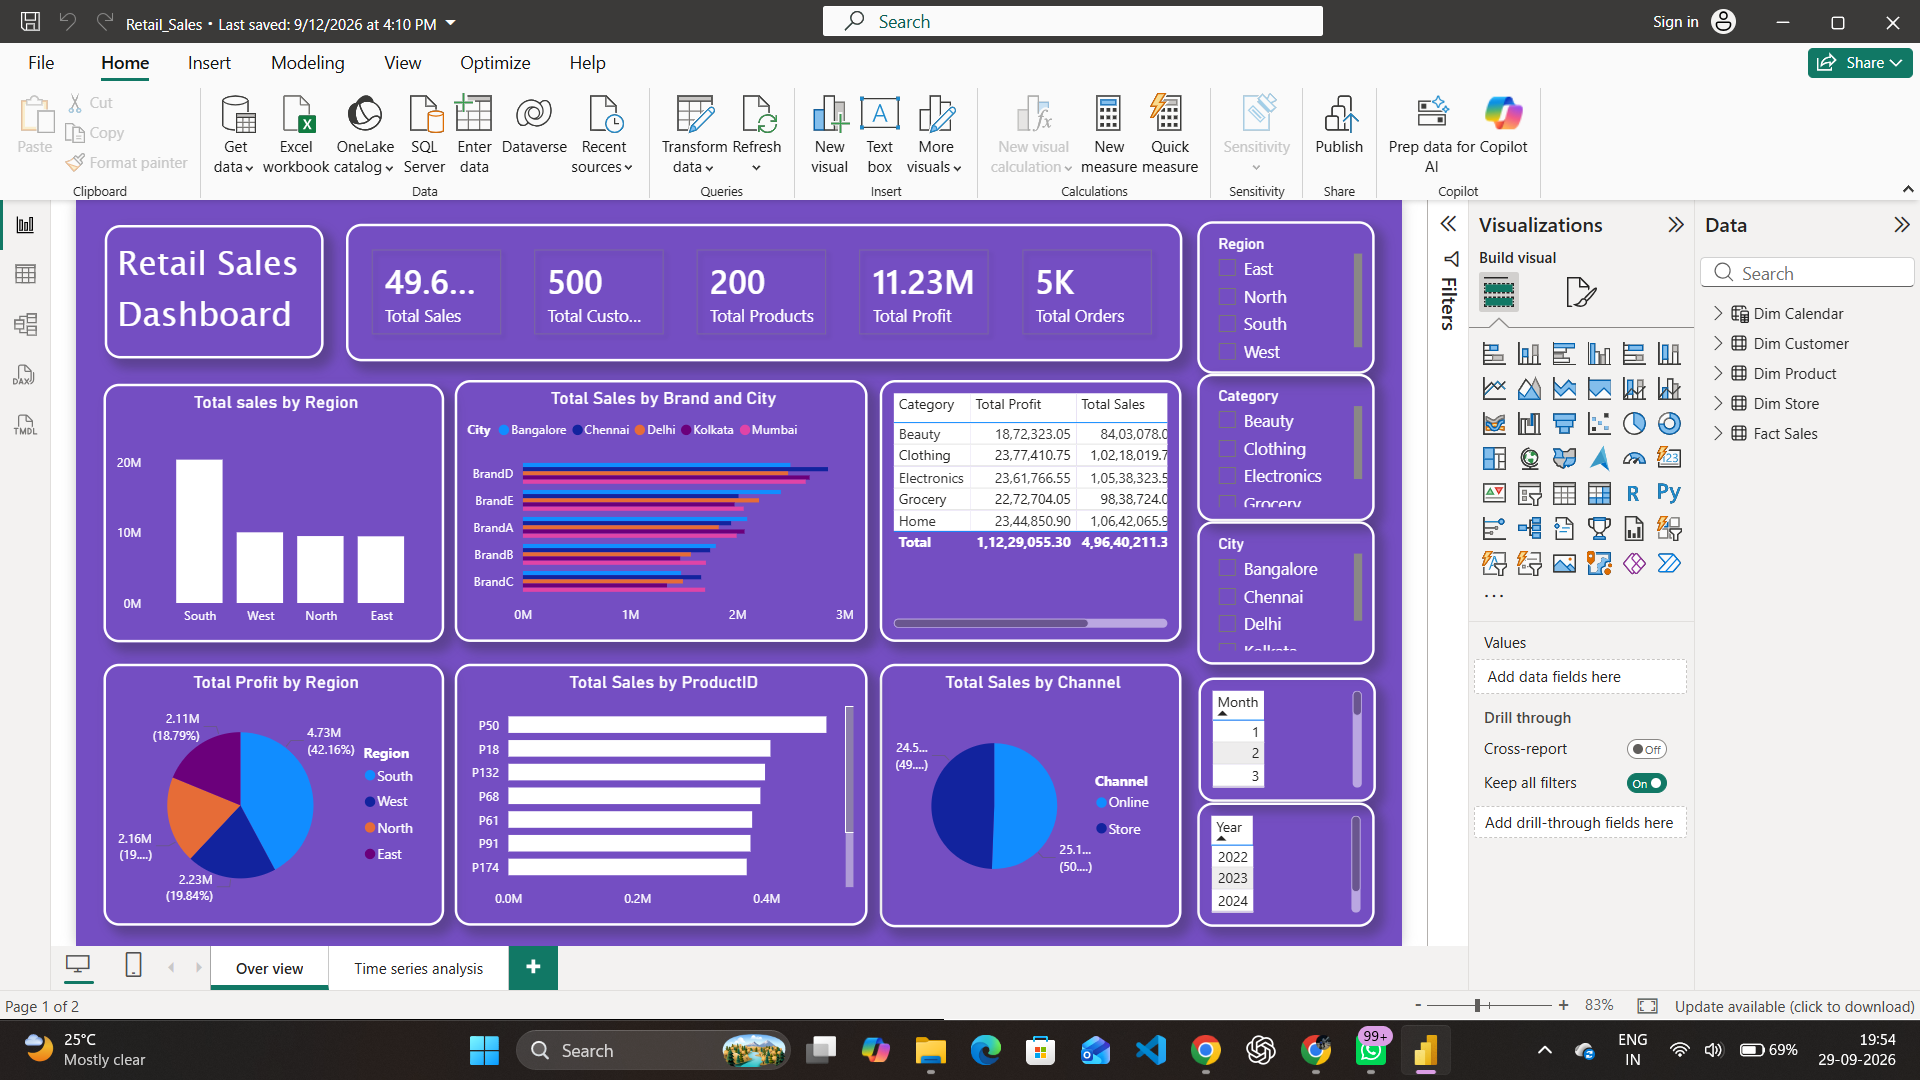

Layout of this report page (visuals, bound fields, positions):
{"tool":"powerbi","page":{"name":"Over view","canvas":[1280,720],"ordinal":0},"visuals":[{"type":"cardVisual","fields":{"Data":["Fact Sales.Total Sales","Fact Sales.Total Customers","Fact Sales.Total Products","Fact Sales.Total Profit","Fact Sales.Total Orders"]},"box":[260,22.5,807.5,132.5],"z":0},{"type":"slicer","fields":{"Values":["Dim Customer.Region"]},"box":[1082.5,20,171.2,147.5],"z":1000},{"type":"slicer","fields":{"Values":["Dim Product.Category"]},"box":[1082.5,167.5,171.2,142.5],"z":2000},{"type":"slicer","fields":{"Values":["Dim Customer.City"]},"box":[1082.2,310.1,171.3,138.7],"z":3000},{"type":"tableEx","fields":{"Values":["Dim Calendar.Month"]},"box":[1083.8,461.2,171.2,120],"z":4000},{"type":"tableEx","fields":{"Values":["Dim Calendar.Year"]},"box":[1082.5,581.2,171.2,120],"z":5000},{"type":"textbox","box":[27.5,23.8,211.2,128.8],"z":6000},{"type":"columnChart","title":"Total sales by Region","fields":{"Category":["Dim Customer.Region"],"Y":["Fact Sales.Total Sales"]},"box":[26.8,177,328.6,249.8],"z":7000},{"type":"pieChart","fields":{"Category":["Dim Customer.Region"],"Y":["Fact Sales.Total Profit"]},"box":[26.8,447.6,328.6,252.8],"z":8000},{"type":"clusteredBarChart","fields":{"Category":["Dim Product.Brand"],"Series":["Dim Customer.City"],"Y":["Fact Sales.Total Sales"]},"box":[365.8,174,398.5,252.8],"z":9000},{"type":"tableEx","fields":{"Values":["Dim Product.Category","Fact Sales.Total Profit","Fact Sales.Total Sales","Fact Sales.Total Quantity"]},"box":[776.2,174,291.5,252.8],"z":10000},{"type":"pieChart","fields":{"Y":["Fact Sales.Total Sales"],"Category":["Dim Store.Channel"]},"box":[776.2,447.6,291.5,254.3],"z":11000},{"type":"clusteredBarChart","fields":{"Category":["Dim Product.ProductID"],"Y":["Fact Sales.Total Sales"]},"box":[365.8,447.6,398.5,252.8],"z":12000}]}

Visuals, with their boxes on the page's 1280x720 design canvas (x1, y1, x2, y2). These are canvas units, not pixel positions in the 1920x1080 screenshot, which may show the page scaled, cropped or inside an application window:
cardVisual - Fact Sales.Total Sales x Fact Sales.Total Customers: locate(260, 22, 1068, 155)
slicer - Dim Customer.Region: locate(1082, 20, 1254, 168)
slicer - Dim Product.Category: locate(1082, 168, 1254, 310)
slicer - Dim Customer.City: locate(1082, 310, 1254, 449)
tableEx - Dim Calendar.Month: locate(1084, 461, 1255, 581)
tableEx - Dim Calendar.Year: locate(1082, 581, 1254, 701)
textbox: locate(28, 24, 239, 153)
"Total sales by Region" columnChart: locate(27, 177, 355, 427)
pieChart - Dim Customer.Region x Fact Sales.Total Profit: locate(27, 448, 355, 700)
clusteredBarChart - Dim Product.Brand x Dim Customer.City: locate(366, 174, 764, 427)
tableEx - Dim Product.Category x Fact Sales.Total Profit: locate(776, 174, 1068, 427)
pieChart - Fact Sales.Total Sales x Dim Store.Channel: locate(776, 448, 1068, 702)
clusteredBarChart - Dim Product.ProductID x Fact Sales.Total Sales: locate(366, 448, 764, 700)
